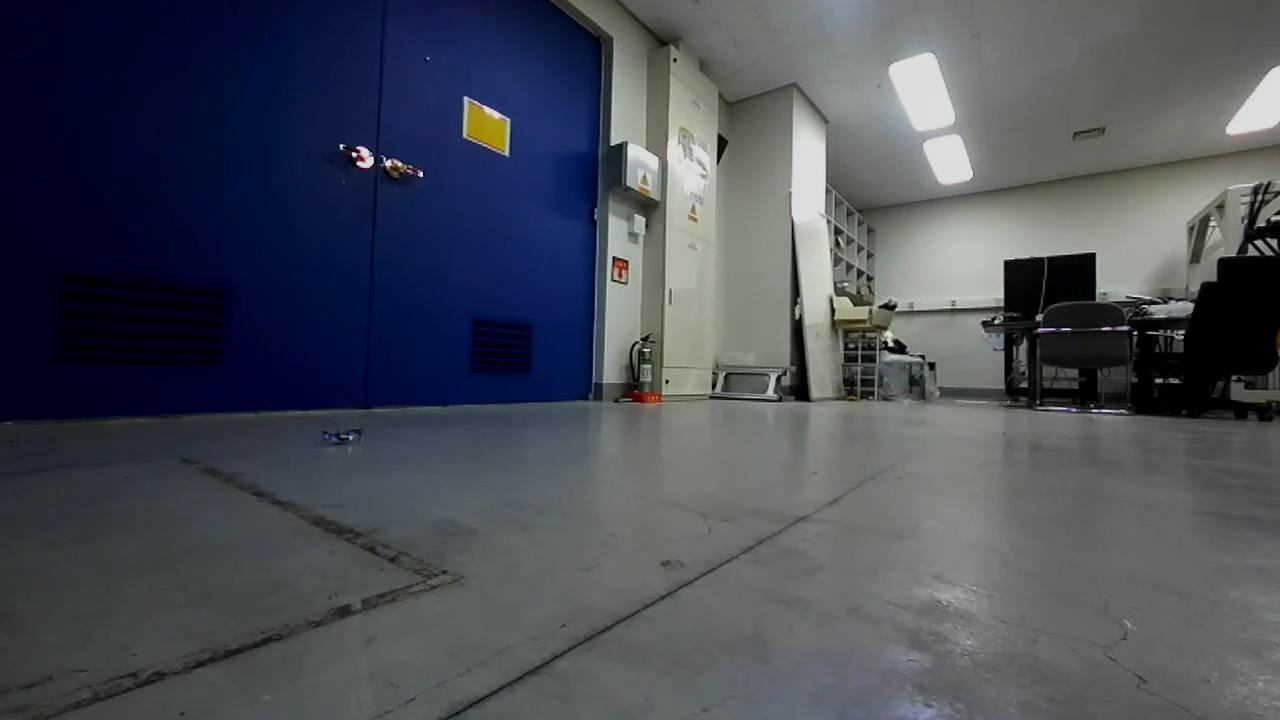crazyflie: (313, 422, 372, 452)
